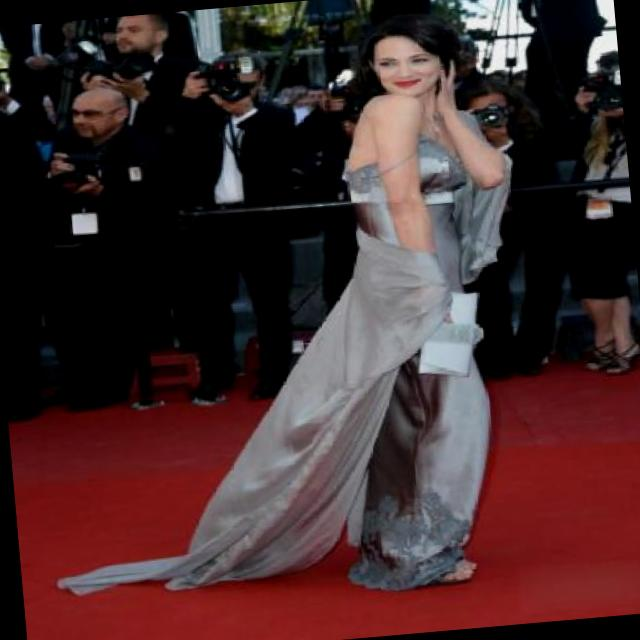Person: (256, 9, 542, 606)
